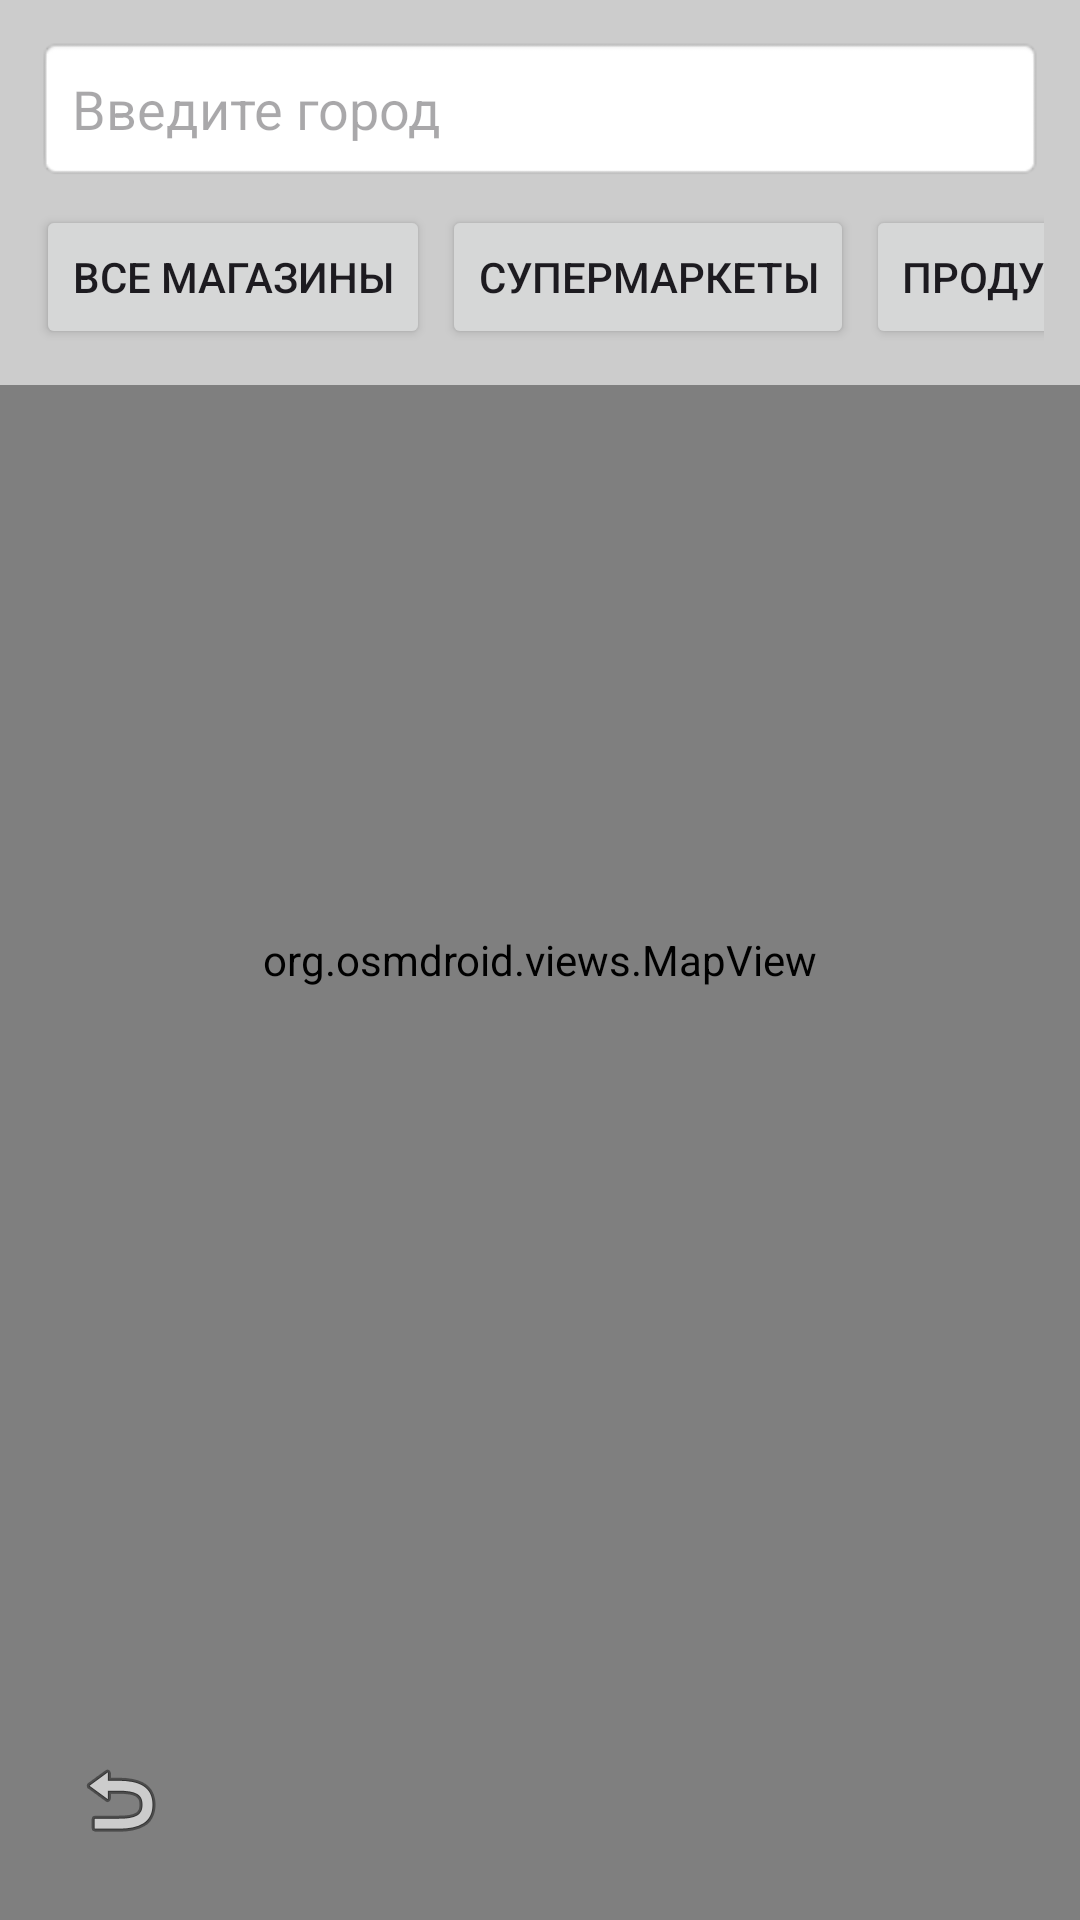

Named icons in this screenshot (1080w x 1920h) and their centers, (x=x, y=y):
Назад: (x=121, y=1801)
